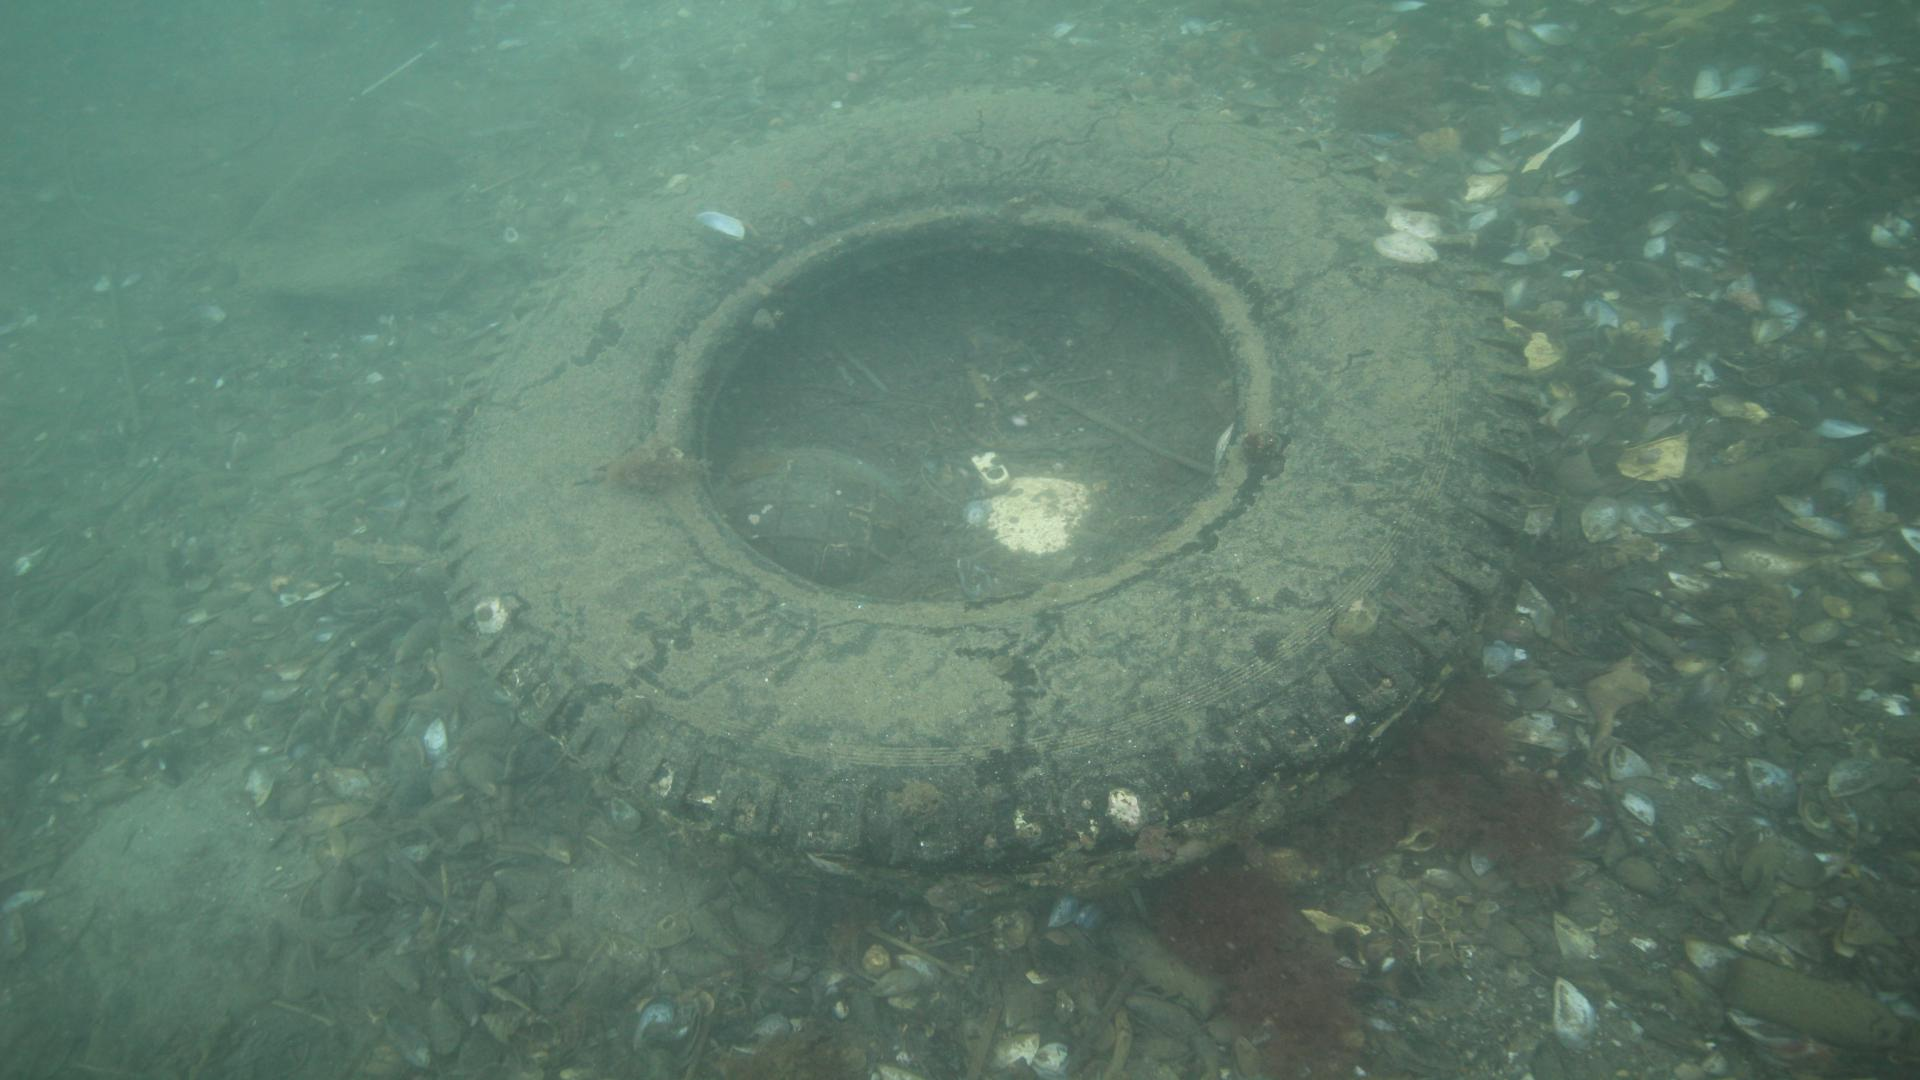tire: (425, 84, 1539, 909)
